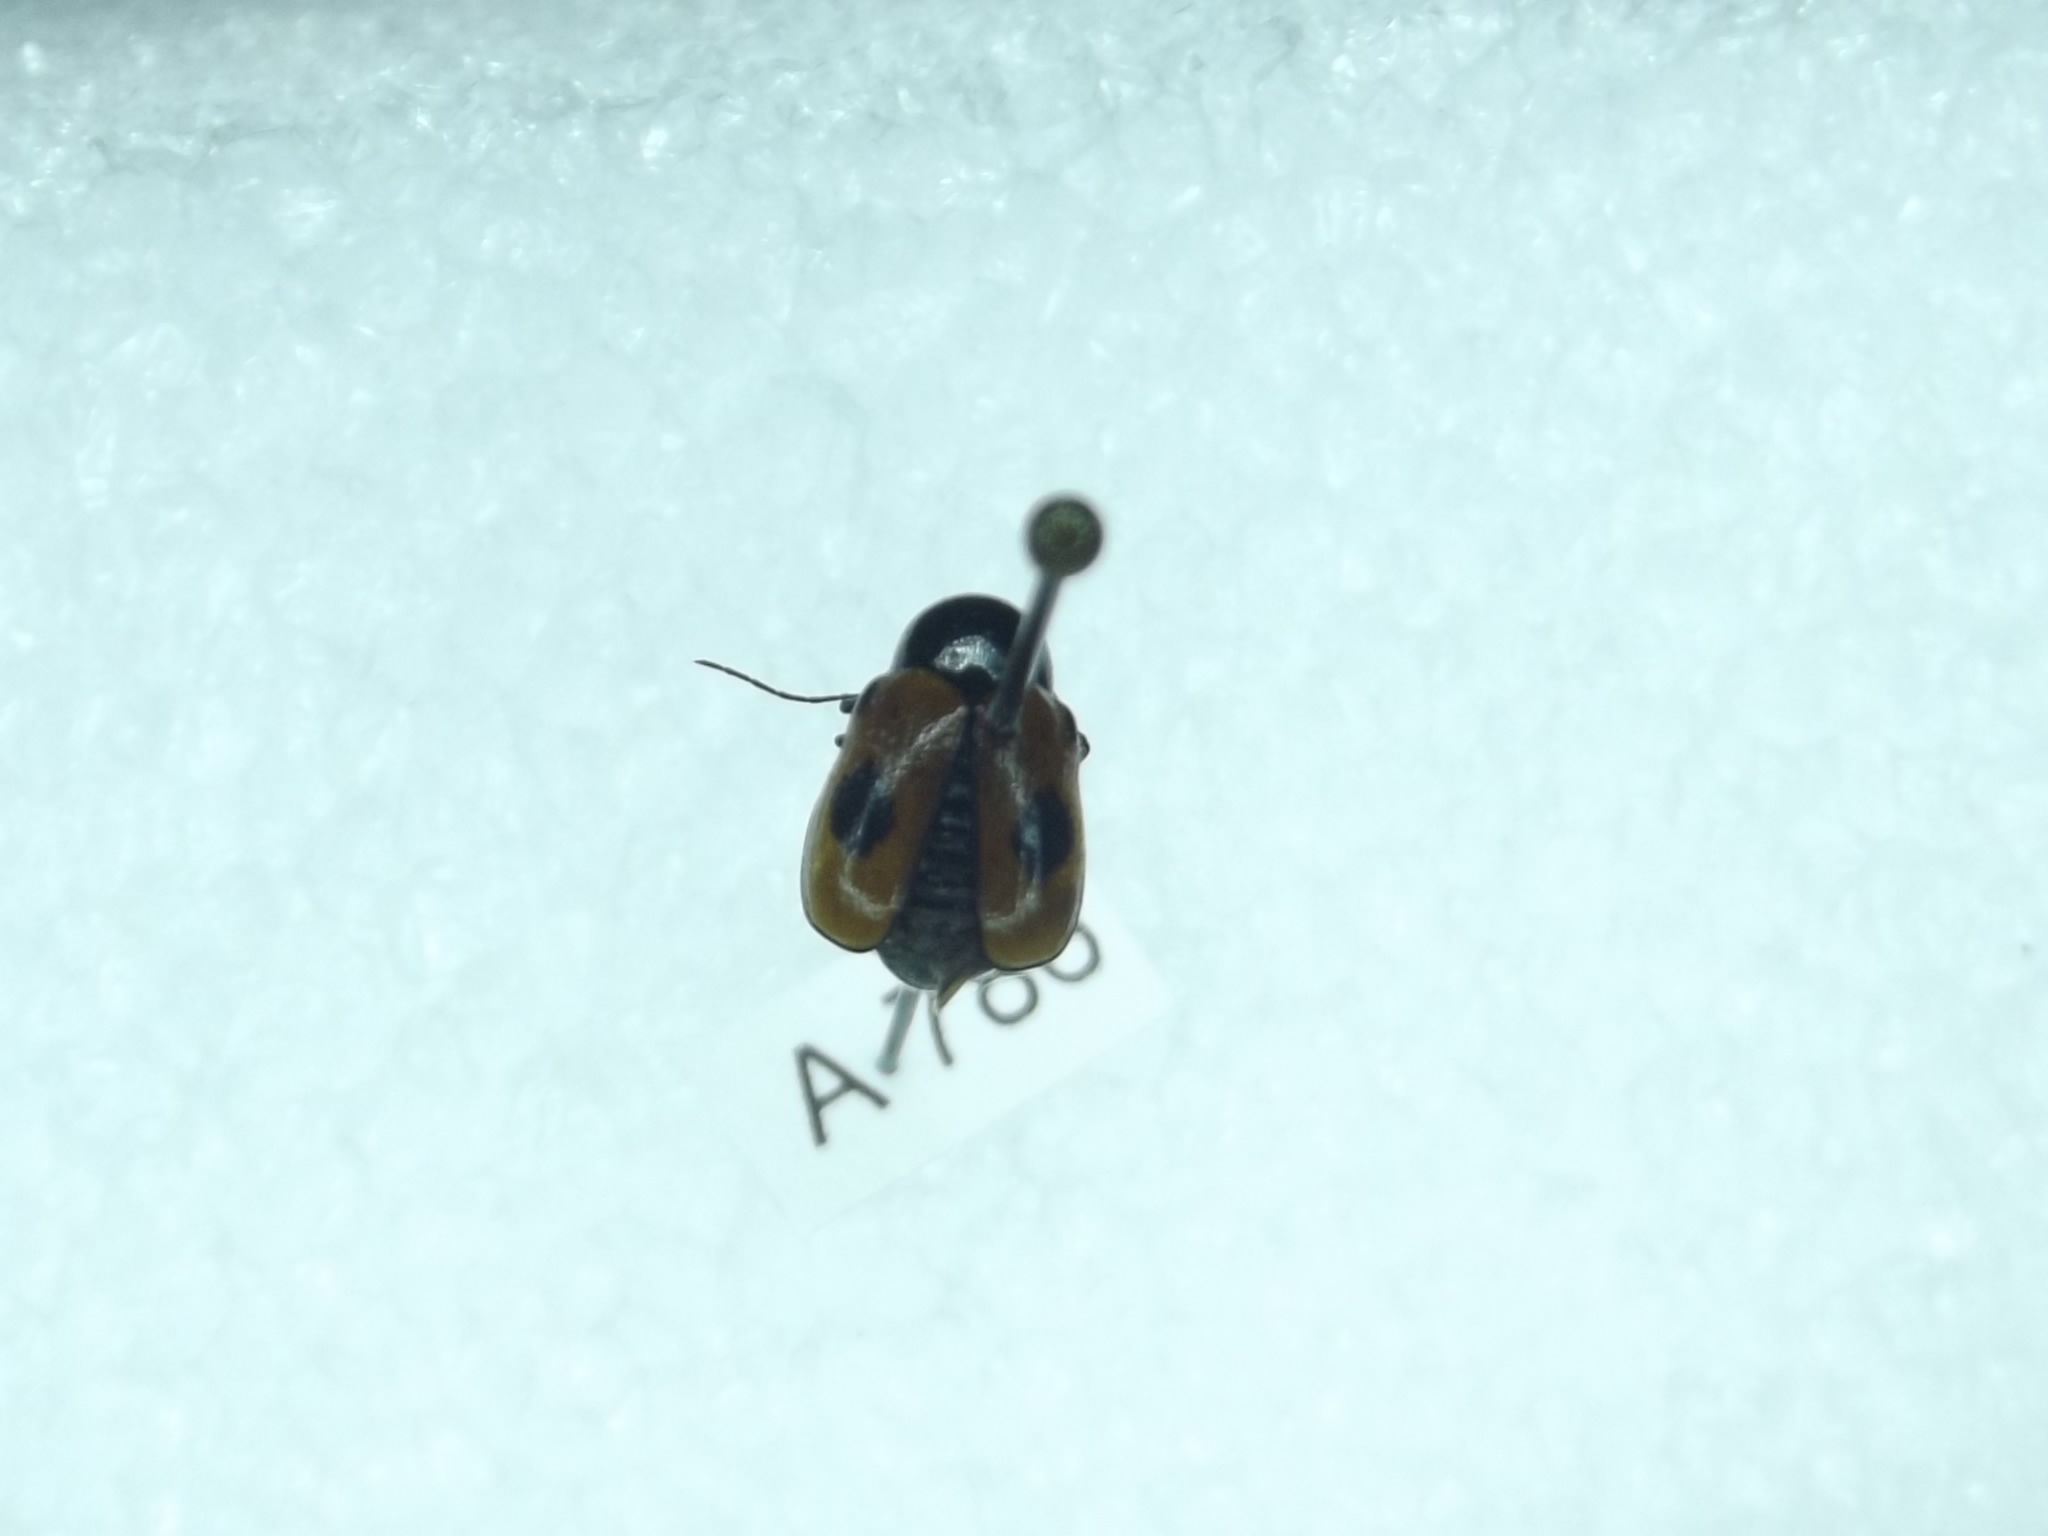Cryptocephalus_bipunctatus: (685, 594, 1100, 997)
